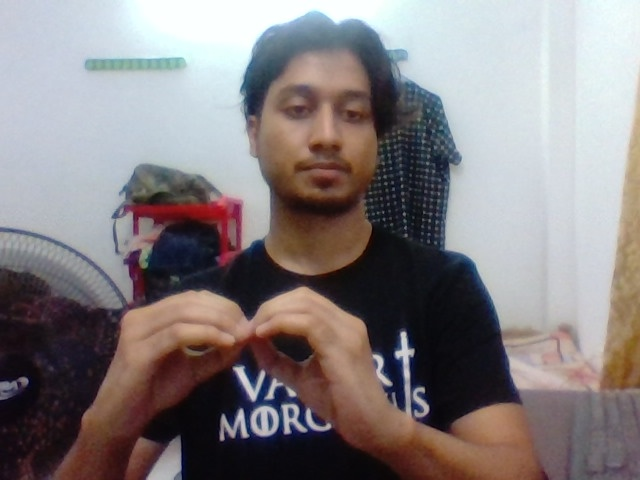B: (108, 272, 413, 426)
